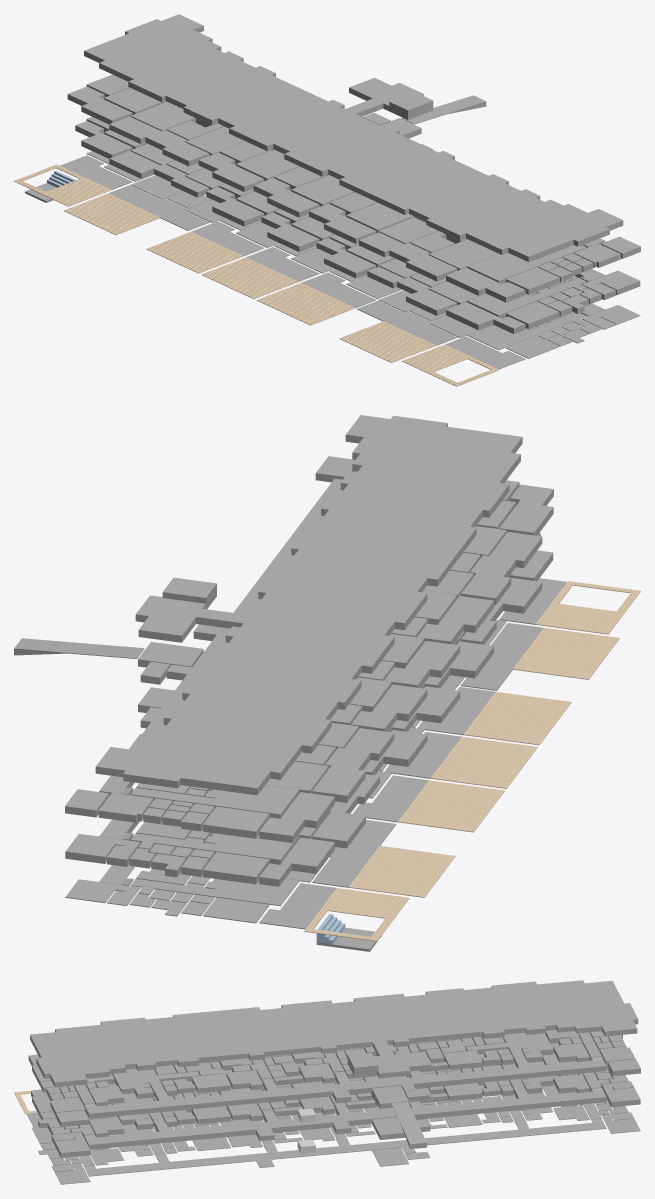
Rendered from slabs.glb.
3 views of the same model, one above another, from view 1: azimuth 30°, elevation 25°; view 2: azimuth 150°, elevation 25°; view 3: azimuth 270°, elevation 25° (orthographic). The views are drawn at different scales.
Visible parts, largest first — view 1: 2TkLvPOwf97w4u8_c8yXy6, 0DKn1Ug4v2NgwbIU0K5Rae; view 2: 2TkLvPOwf97w4u8_c8yXy6, 0DKn1Ug4v2NgwbIU0K5Rae; view 3: 2TkLvPOwf97w4u8_c8yXy6, 0$wYaXpxT26BsDICStIo4H.
Part boxes in pixels (x1=…): 2TkLvPOwf97w4u8_c8yXy6: x1=25, y1=14, x2=640, y2=369; 0DKn1Ug4v2NgwbIU0K5Rae: x1=14, y1=164, x2=498, y2=386; 2TkLvPOwf97w4u8_c8yXy6: x1=14, y1=415, x2=566, y2=951; 0DKn1Ug4v2NgwbIU0K5Rae: x1=304, y1=581, x2=640, y2=941; 2TkLvPOwf97w4u8_c8yXy6: x1=27, y1=980, x2=640, y2=1184; 0$wYaXpxT26BsDICStIo4H: x1=297, y1=1108, x2=315, y2=1153.
Size of the model in its own units: 40.59 by 12.56 by 65.82.
